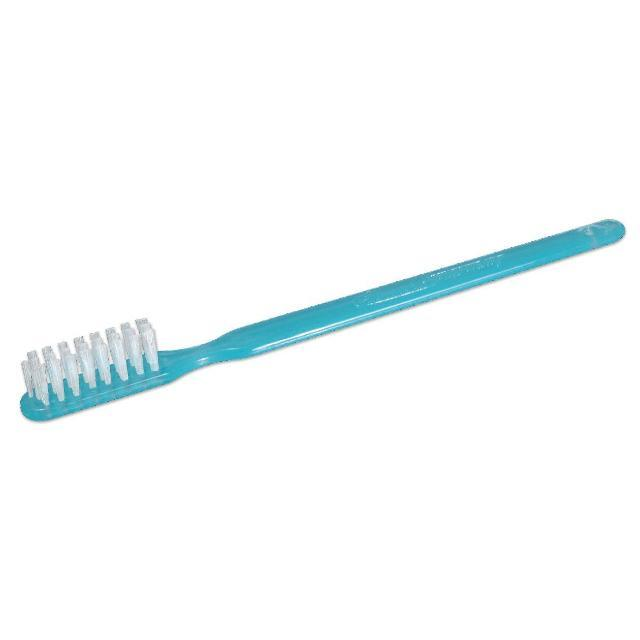toothbrush: (1, 227, 636, 423)
